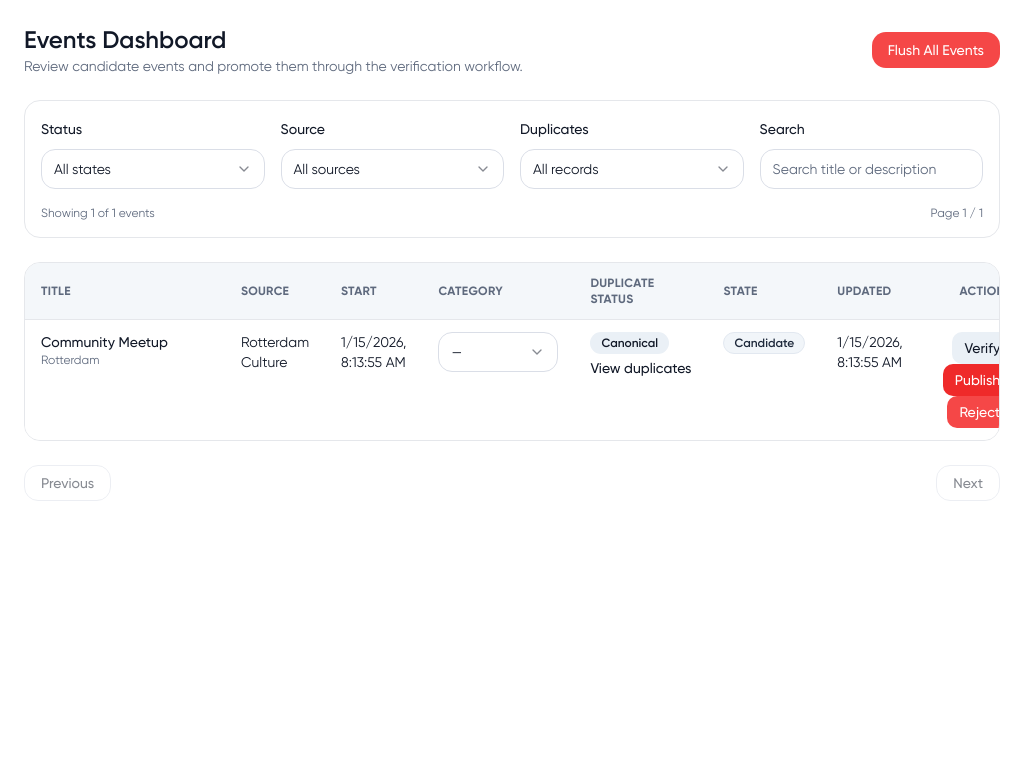
Test: AdminEventsPage › opens duplicates dialog
Expected: the text "Community Meetup" is shown, x1=41 y1=334 x2=168 y2=350
Click the button "View duplicates". click: (641, 368)
box: x1=590 y1=358 x2=691 y2=378
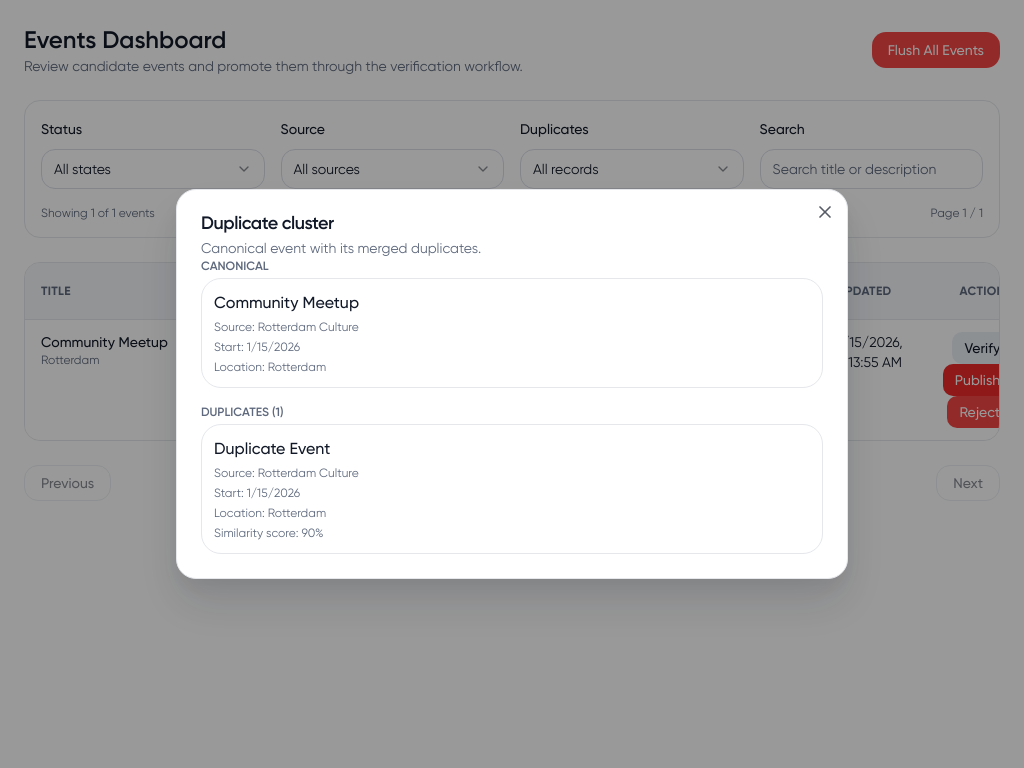
Expected: the text "Duplicate Event" is shown, x1=214 y1=439 x2=330 y2=458
